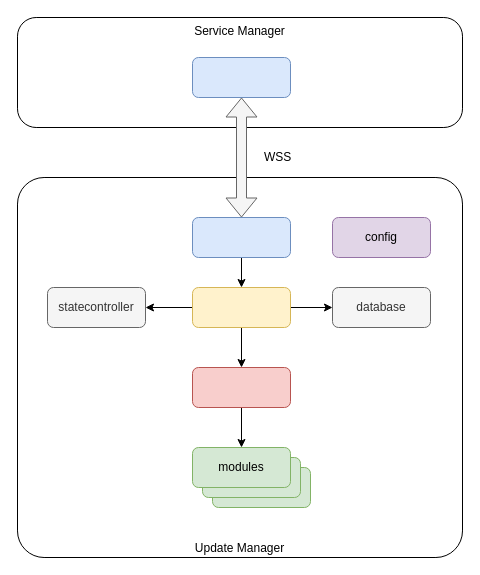
The diagram is 480 pixels wide and 575 high, and some of its shapes have lost their labels. Here are the shapes that lost their labels. From the top down, the centre of each, then its label:
pixel 241 77: umclient
pixel 241 237: umserver
pixel 241 307: updatehandler
pixel 241 387: modulemanager
